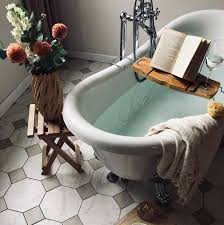bathub: (72, 12, 218, 213)
